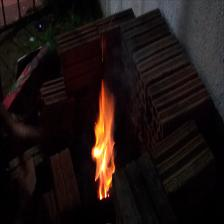fire: (92, 87, 121, 200)
